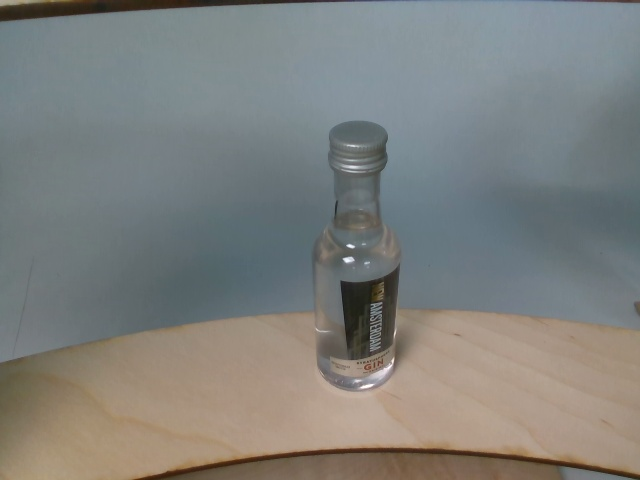gin: (313, 120, 402, 393)
